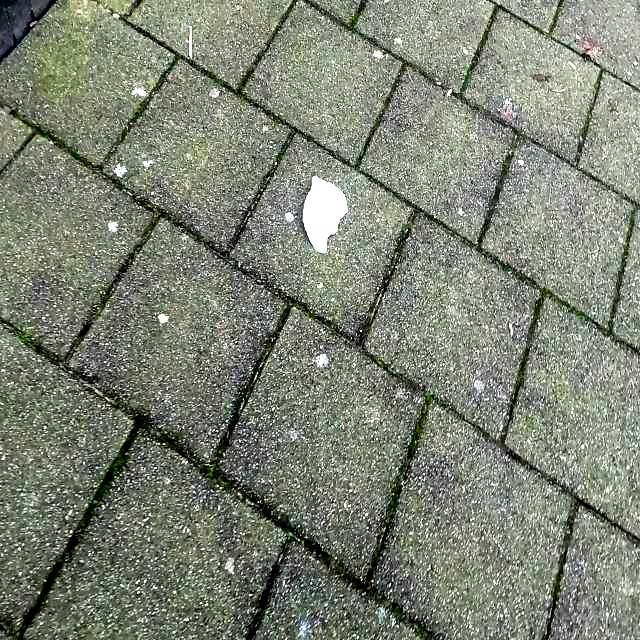Paper: (302, 174, 348, 254)
